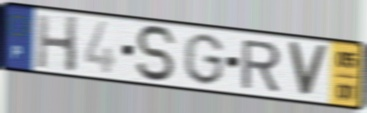4: (82, 18, 118, 78)
G: (181, 31, 226, 87)
H: (35, 13, 80, 75)
R: (239, 38, 283, 93)
S: (133, 23, 180, 84)
V: (285, 39, 330, 100)
